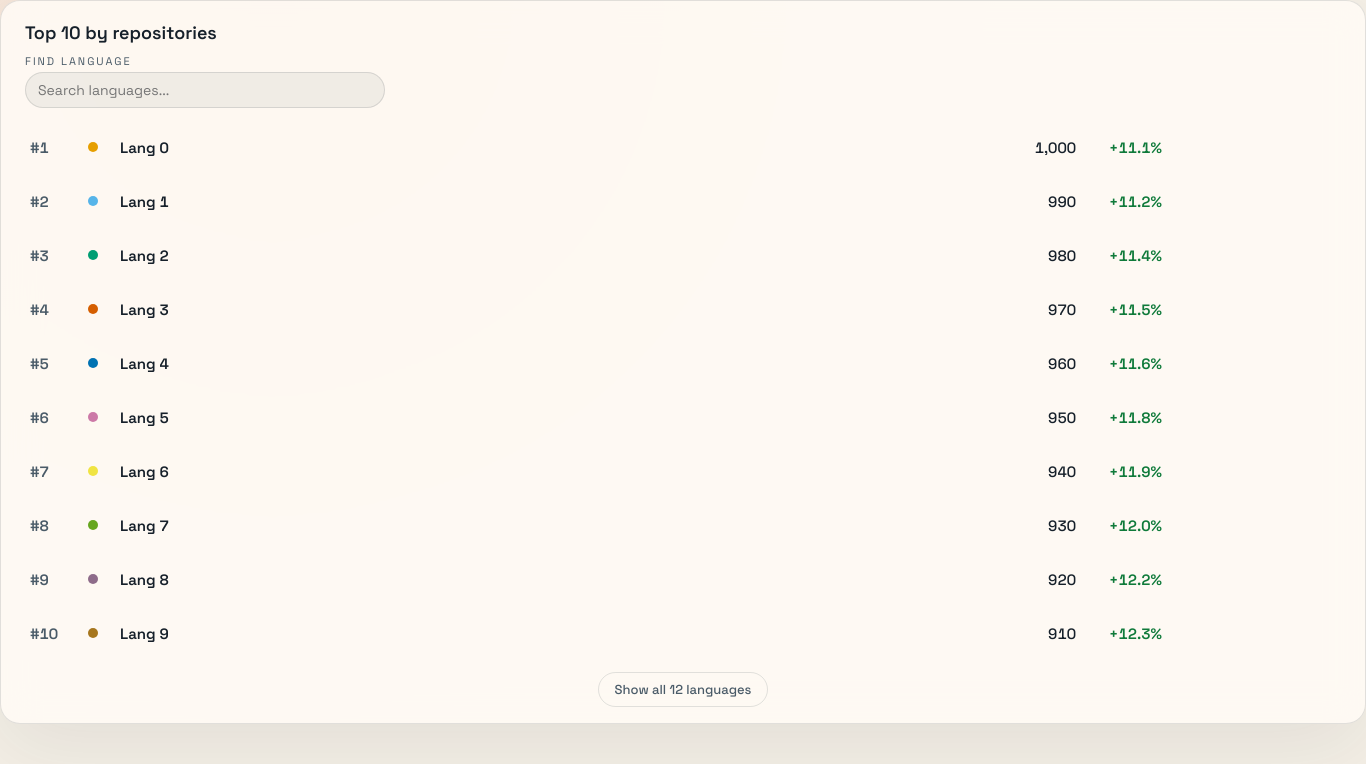
it: Leaderboard › reveals rows 11+ when Show all is clicked and collapses on Show less
Expected: the text "Lang 11" is not shown
Click the button "Show all 12 languages" at (683, 690), box [598,672,768,707]
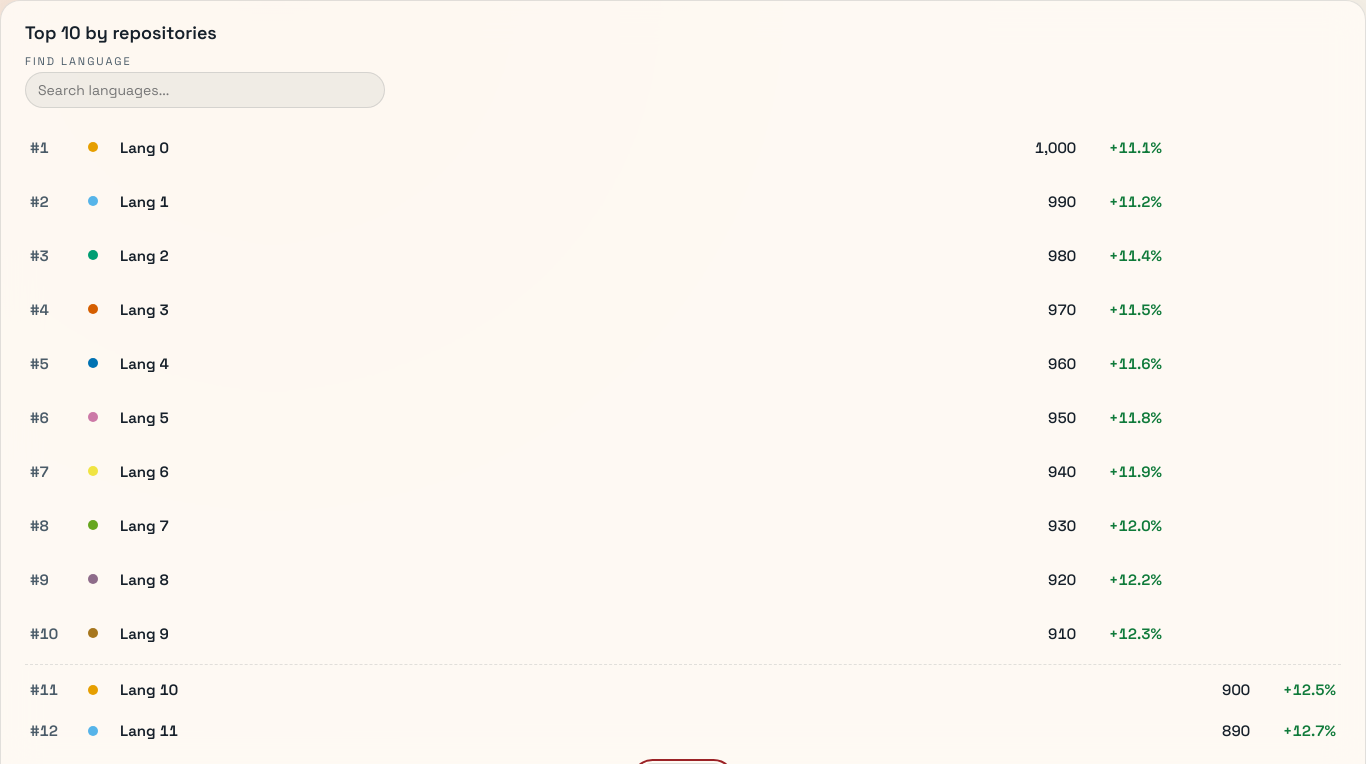
Now the text "Lang 11" is shown, box [120,721,178,740]
# Row 12 is clickable and pins its language.
Click the button with aria-label "Lang 11," at (149, 730), box [30,721,1336,740]
(page scrolled)
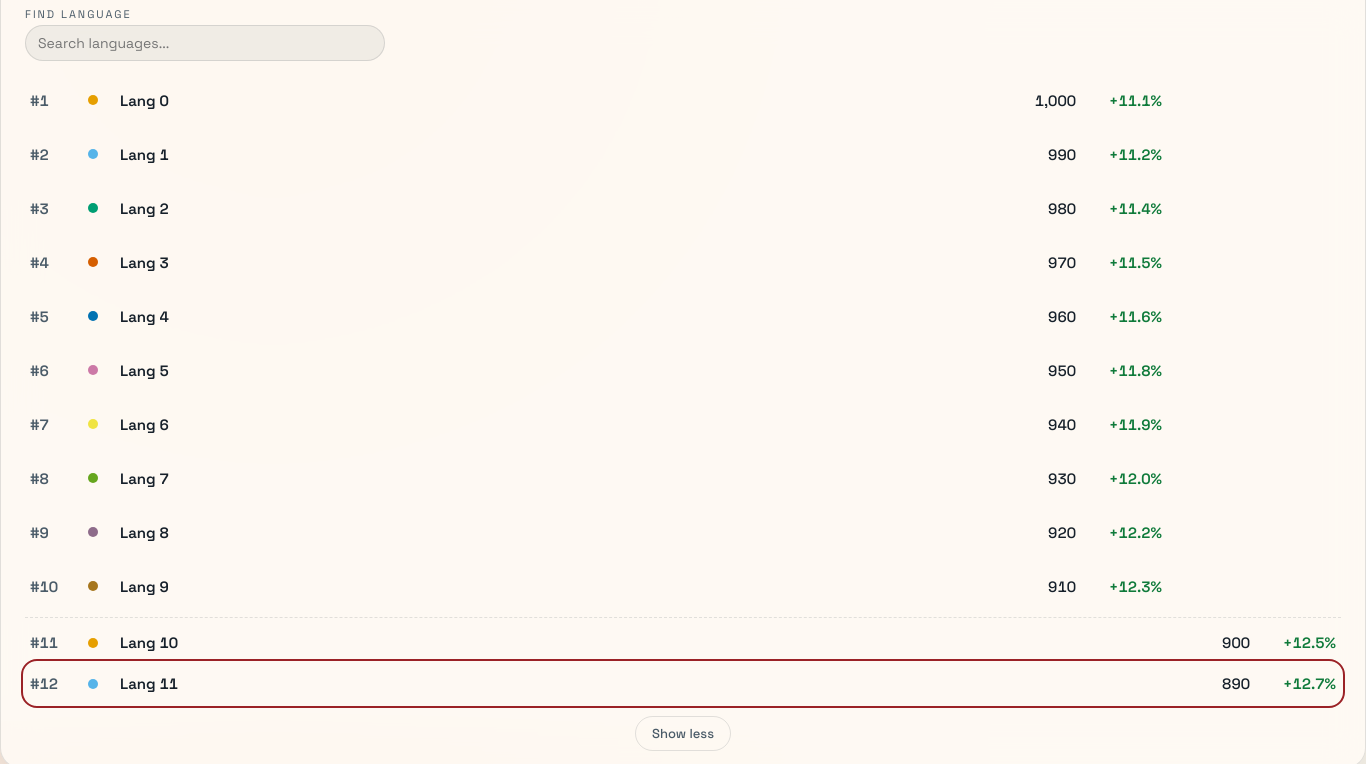
Click the button "Show less" at (683, 734), box [635,716,731,751]
(page scrolled)
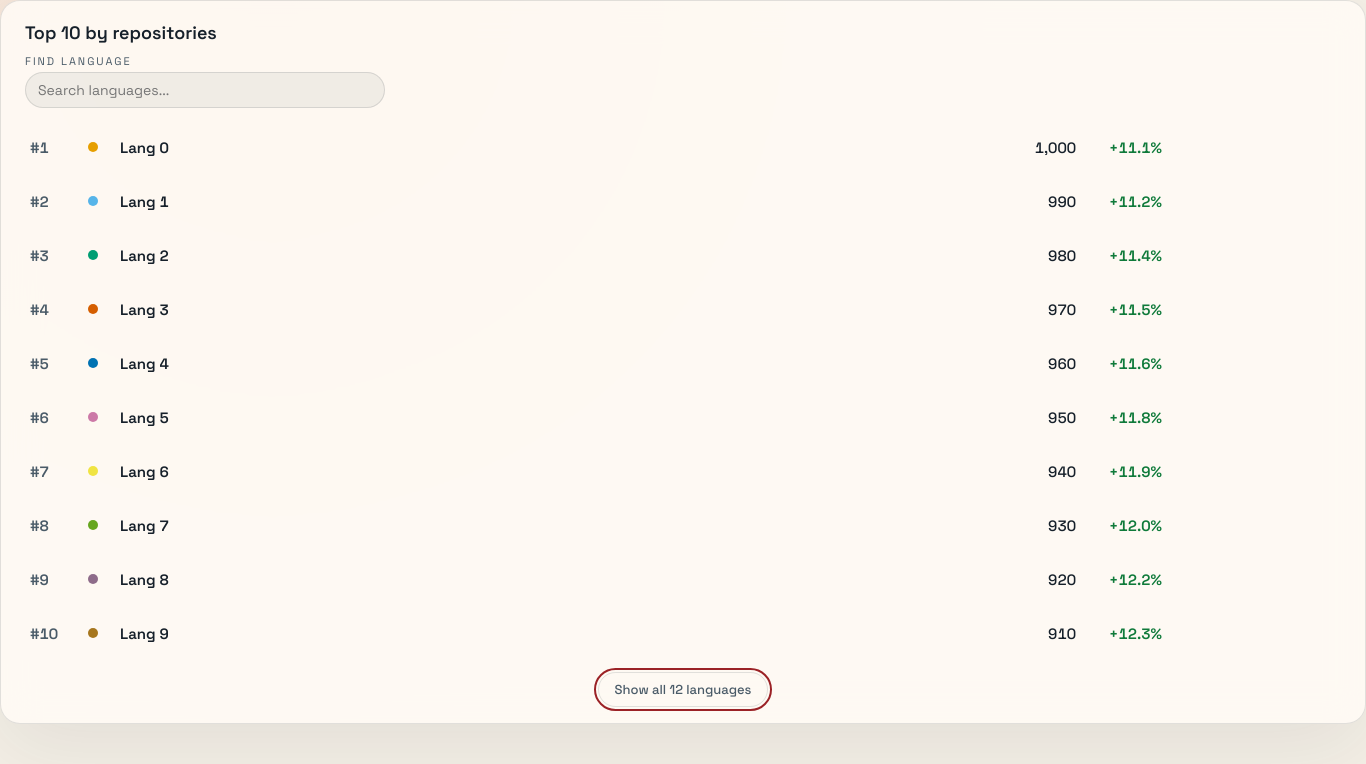
Now the button "Lang 11" is gone
